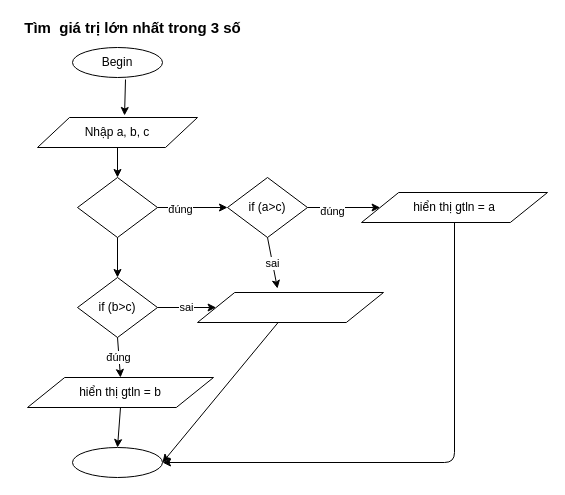
Some shapes in this 565 by 495 pixel diagram are drawn without their labels. Here are the shapes that lost their labels. From the top down, the centre of each, then its label:
At (117,207): "if (a>b)".
At (290,307): "hiển thị gtln = c".
At (117,462): "End".
